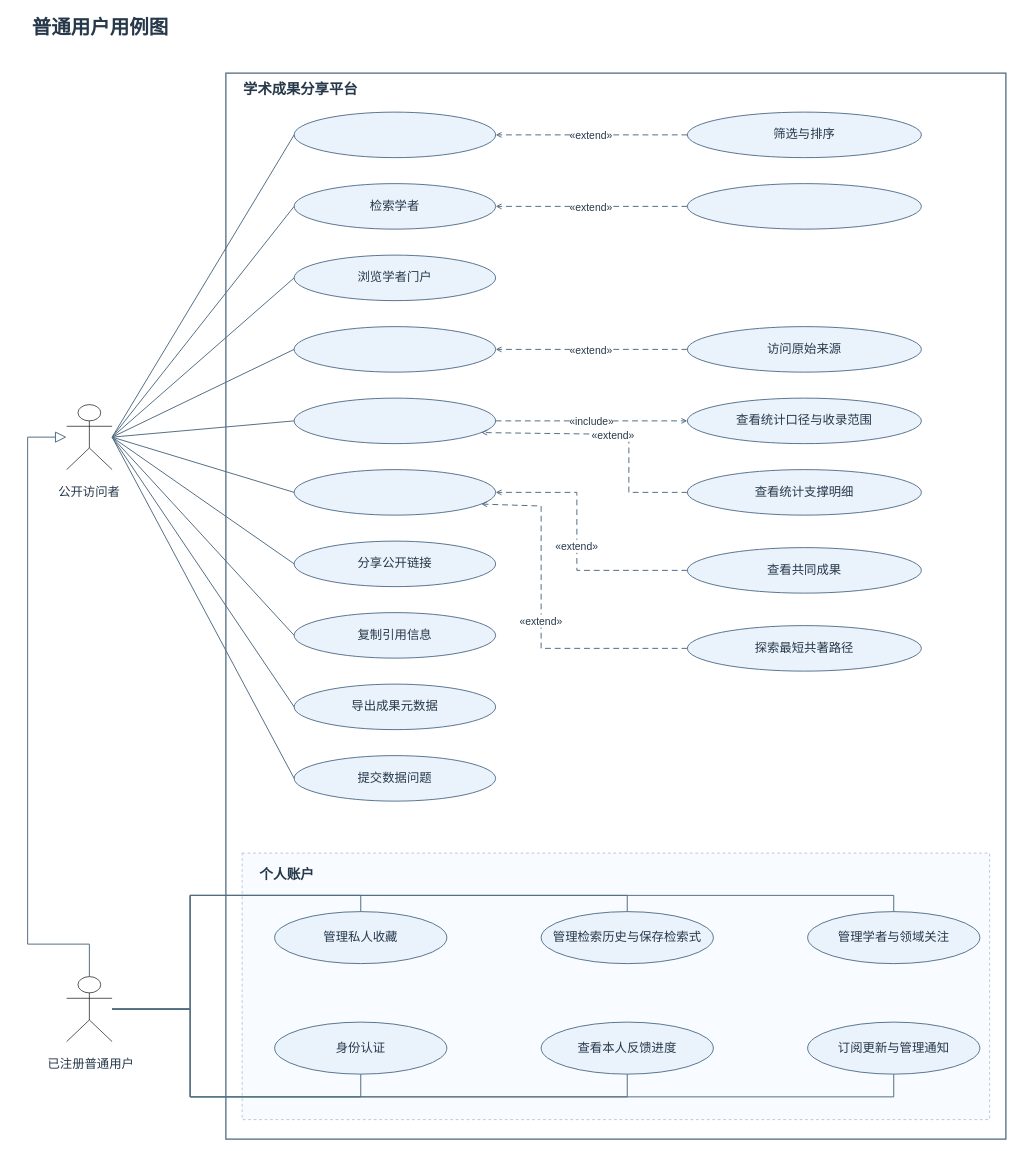
The diagram is 1030 pixels wide and 1151 high, and some of its shapes have lost their labels. The box of each missing label's shape, as (x1, y1, x2, y2) in pixels:
查看成果详情: (293, 326, 496, 372)
查看统计分析: (293, 397, 496, 444)
检索学术成果: (293, 111, 496, 158)
浏览专家关系网络: (293, 469, 496, 515)
确认同名学者: (687, 183, 922, 229)
